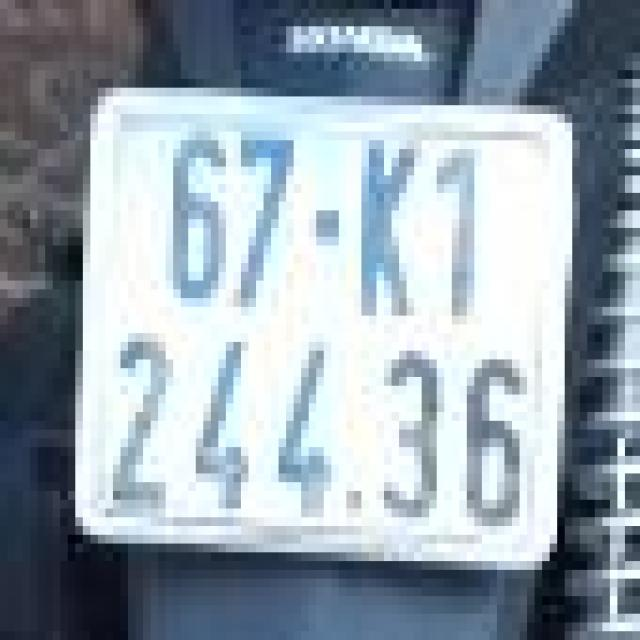1: (429, 132, 497, 324)
2: (98, 294, 181, 530)
3: (376, 342, 444, 535)
4: (188, 307, 264, 526), (267, 320, 350, 513)
6: (158, 118, 234, 320), (459, 342, 527, 535)
7: (226, 127, 301, 320)
K: (358, 127, 418, 320)
